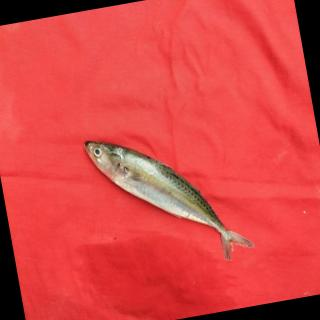Ikan: (61, 103, 269, 296)
